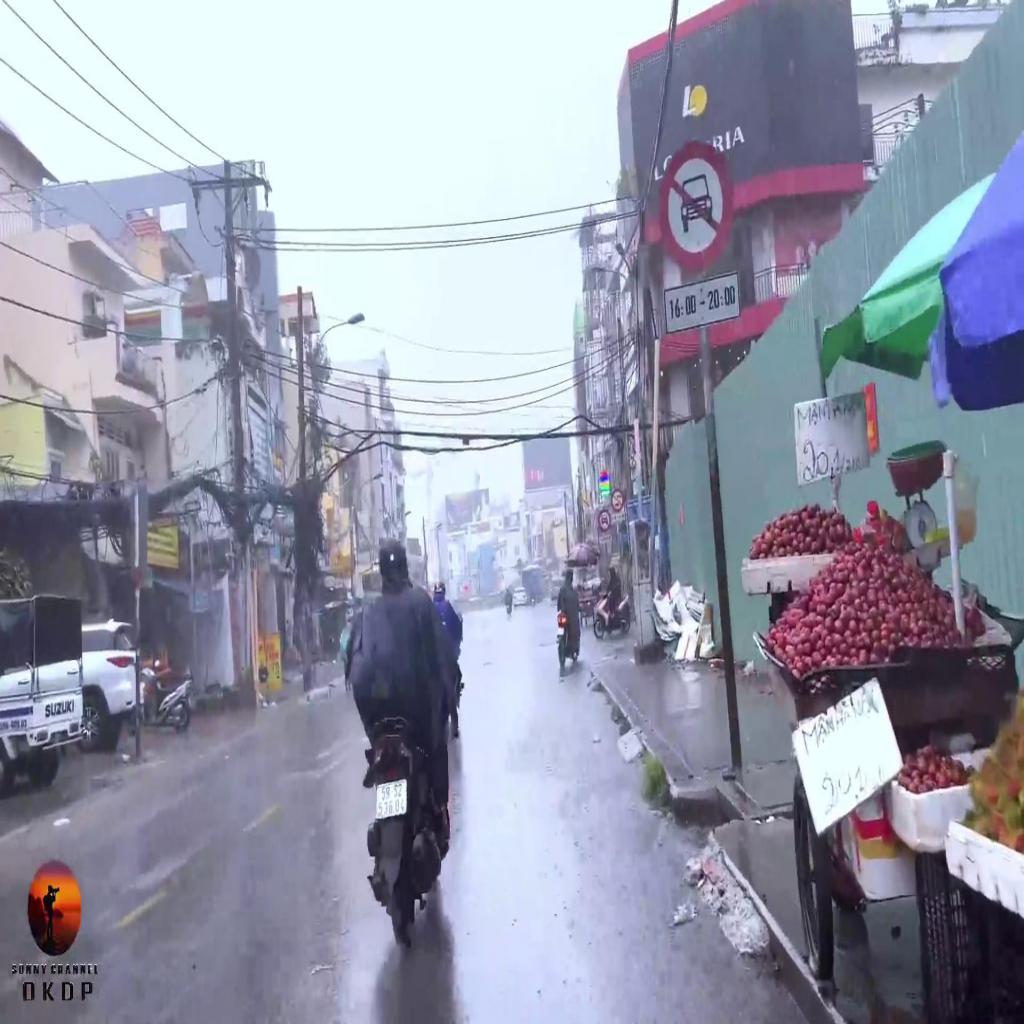cam_o_to: (659, 144, 732, 272), (598, 510, 612, 532)
cam_o_to_tai_va_xe_khach: (611, 490, 624, 510)
khac: (664, 272, 740, 335)
